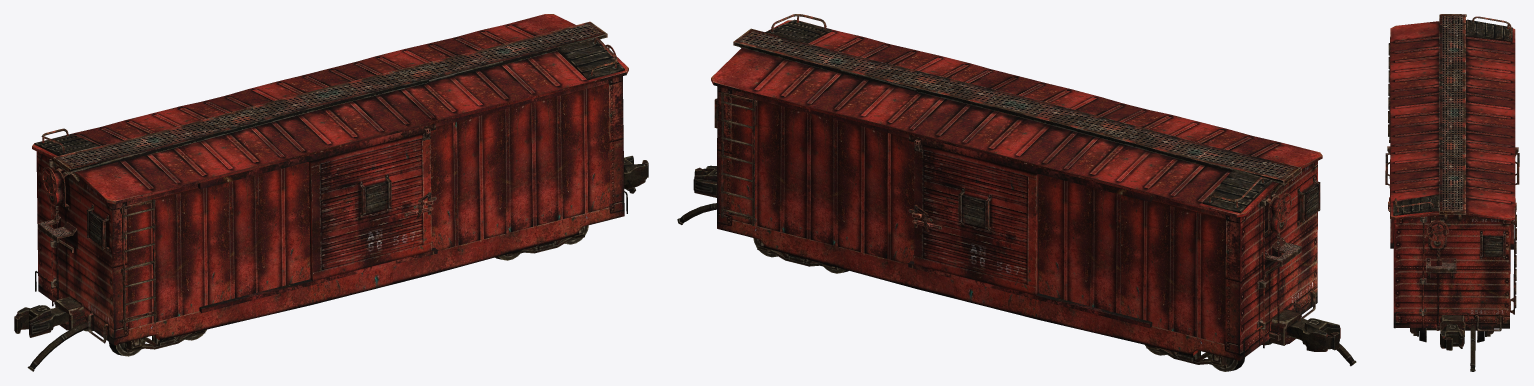
Rendered from boxcar.fbx.
3 views of the same model, side by side, from view 1: azimuth 30°, elevation 25°; view 2: azimuth 150°, elevation 25°; view 3: azimuth 270°, elevation 25° (orthographic). The views are drawn at different scales.
Visible parts, largest first — view 1: boxcar; view 2: boxcar; view 3: boxcar.
Boxes of the visible parts, bbox=[...] form: boxcar: bbox=[14, 14, 648, 371]; boxcar: bbox=[677, 14, 1356, 371]; boxcar: bbox=[1385, 14, 1519, 371].
Bounding box in the file's own units: 12028 × 3634 × 2869.
